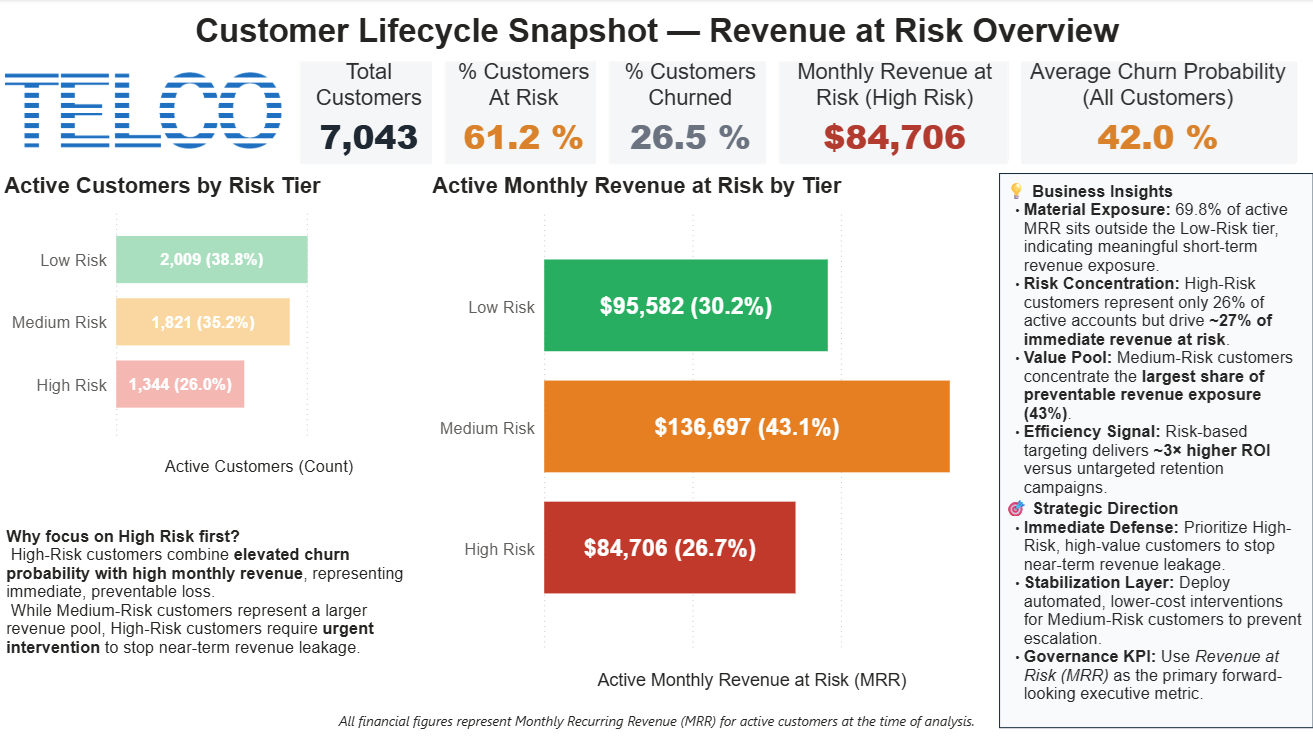

This screenshot's page, from the dashboard's own definition file:
{"tool":"powerbi","page":{"name":"Executive Overview — Immediate Revenue at Risk","canvas":[1280,720],"ordinal":0},"visuals":[{"type":"textbox","box":[0,687.4,1279.6,32.6],"z":0},{"type":"image","box":[6,56.5,268.9,103.7],"z":2000},{"type":"cardVisual","fields":{"Data":["_Measures.Average Churn Probability"]},"box":[973,37,307,141],"z":3000},{"type":"cardVisual","fields":{"Data":["_Measures.Total Customers"]},"box":[275,37,167,141],"z":4000},{"type":"cardVisual","fields":{"Data":["_Measures.% Customers At Risk"]},"box":[416,37,186,141],"z":5000},{"type":"cardVisual","fields":{"Data":["_Measures.% Customers Churned"]},"box":[576,37,191,141],"z":6000},{"type":"cardVisual","fields":{"Data":["_Measures.Monthly Revenue at Risk (MRR)"]},"box":[740.9,37.2,258.1,141.1],"z":7000},{"type":"barChart","title":"Active Monthly Revenue at Risk by Tier","fields":{"Y":["_Measures.Active Revenue by Risk Level"],"Category":["Dim_Risk_Level.Risk_Level"]},"box":[416,169,557,508],"z":8000},{"type":"textbox","box":[0,7.8,1280,53.5],"z":9000},{"type":"barChart","title":"Active Customers by Risk Tier","fields":{"Y":["_Measures.Active Customers"],"Category":["Dim_Risk_Level.Risk_Level"]},"box":[0,169,418,299],"z":10000},{"type":"textbox","box":[2,509,416,144],"z":11000},{"type":"textbox","box":[973,169,306,540],"z":12000}]}

Visuals, with their boxes in screenshot pixels (x1, y1, x2, y2), scaled from the page's 1280x720 canvas onto the 1313x737 screenshot:
textbox: 0 704 1312 736
image: 6 58 282 164
cardVisual - _Measures.Average Churn Probability: 998 38 1312 182
cardVisual - _Measures.Total Customers: 282 38 453 182
cardVisual - _Measures.% Customers At Risk: 427 38 618 182
cardVisual - _Measures.% Customers Churned: 591 38 787 182
cardVisual - _Measures.Monthly Revenue at Risk (MRR): 760 38 1025 183
"Active Monthly Revenue at Risk by Tier" barChart: 427 173 998 693
textbox: 0 8 1312 63
"Active Customers by Risk Tier" barChart: 0 173 429 479
textbox: 2 521 429 668
textbox: 998 173 1312 726
